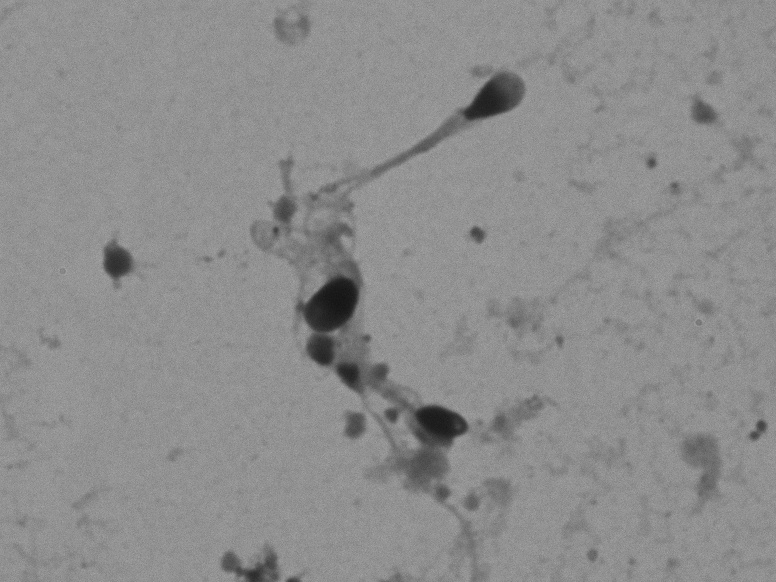Abnormal: (290, 354, 564, 565), (291, 26, 568, 228), (196, 206, 434, 342)
